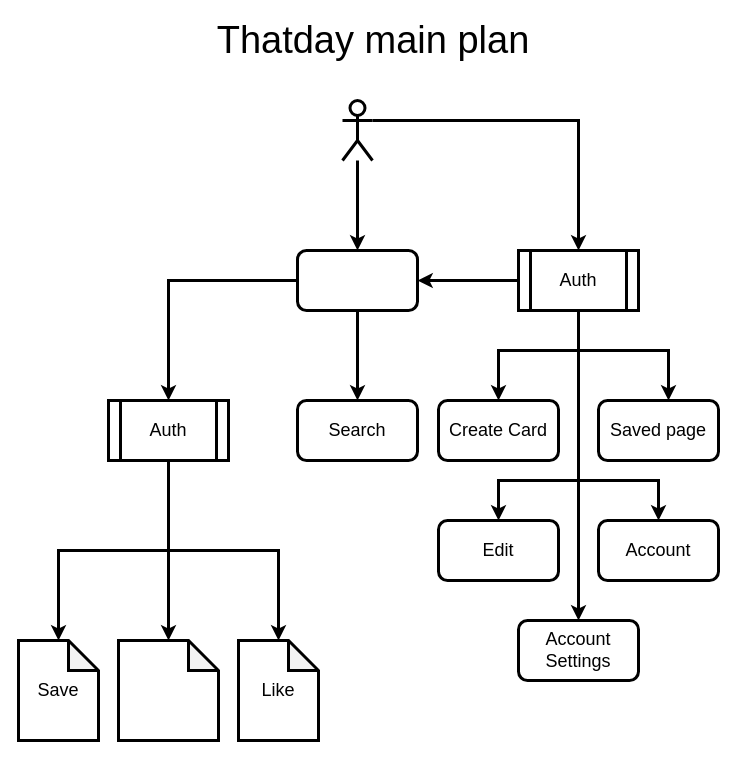
This 737x759 diagram has some shape labels left out. The shapes that lost their labels are listed below. From the top down, each one's centre as x and y in pixels, then its label:
At point (357, 130): "User".
At point (357, 280): "Home".
At point (168, 690): "Comment".
